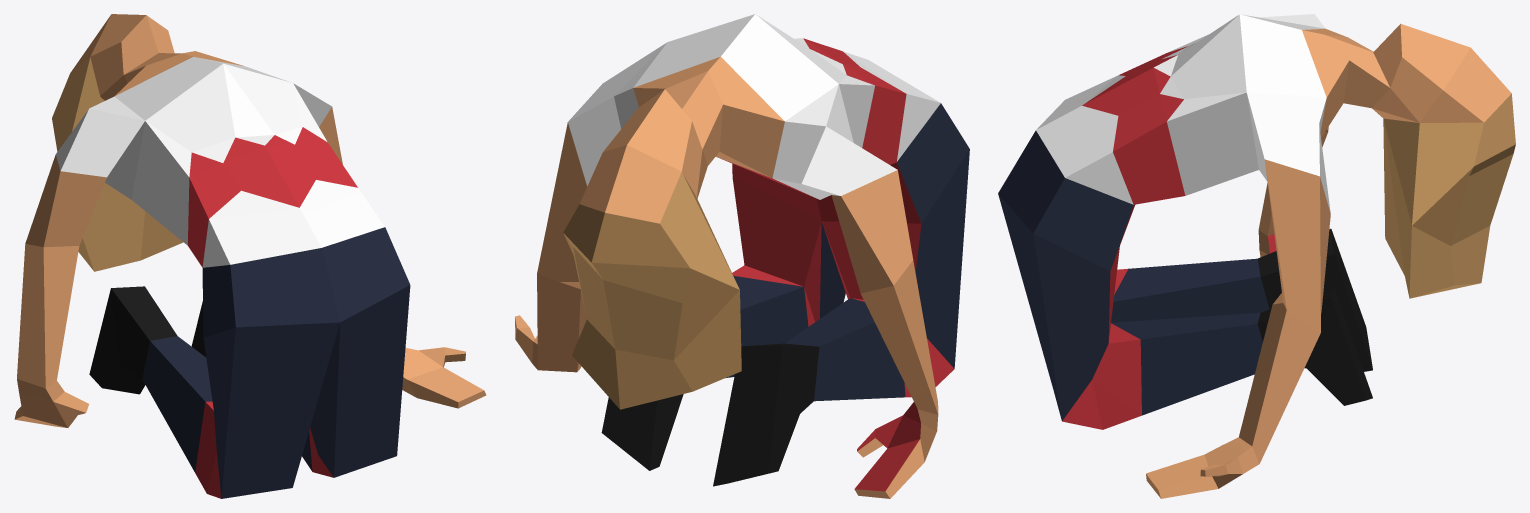
The model's file is apocalypse_woman-casual-pants-dead-b.fbx.
3 views of the same model, side by side, from view 1: azimuth 30°, elevation 25°; view 2: azimuth 150°, elevation 25°; view 3: azimuth 270°, elevation 25° (orthographic). The views are drawn at different scales.
Parts seen in each view (by area): view 1: apocalypse_woman_casual_pants_dead_b; view 2: apocalypse_woman_casual_pants_dead_b; view 3: apocalypse_woman_casual_pants_dead_b.
Boxes of the visible parts, box(x1,y1,x2,y2) form: apocalypse_woman_casual_pants_dead_b: box(14, 14, 486, 498); apocalypse_woman_casual_pants_dead_b: box(515, 14, 969, 498); apocalypse_woman_casual_pants_dead_b: box(998, 14, 1515, 498).
Bounding box in the file's own units: 189 × 160 × 200.
